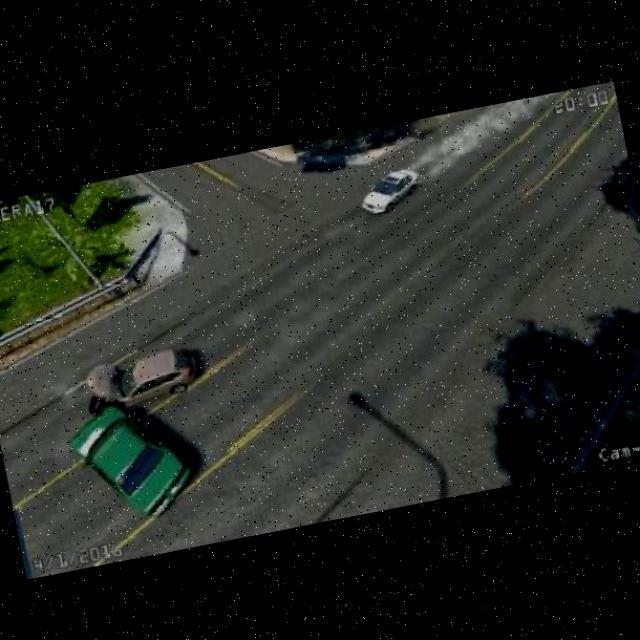accident: (61, 360, 151, 470)
